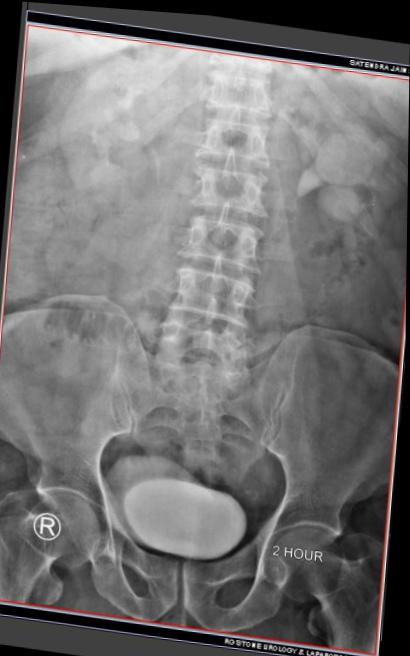bladder: (110, 478, 253, 590)
right kidney: (45, 20, 178, 211)
vertebrae: (195, 90, 277, 153)
